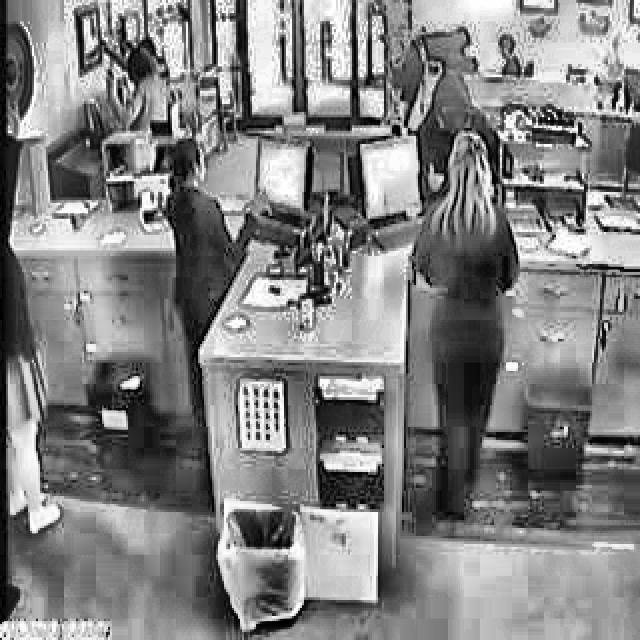robbery: (392, 22, 506, 196), (162, 134, 277, 272), (96, 23, 174, 133)
